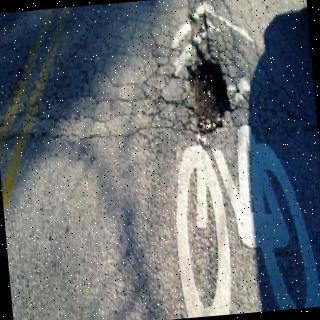pothole: (188, 63, 232, 135)
